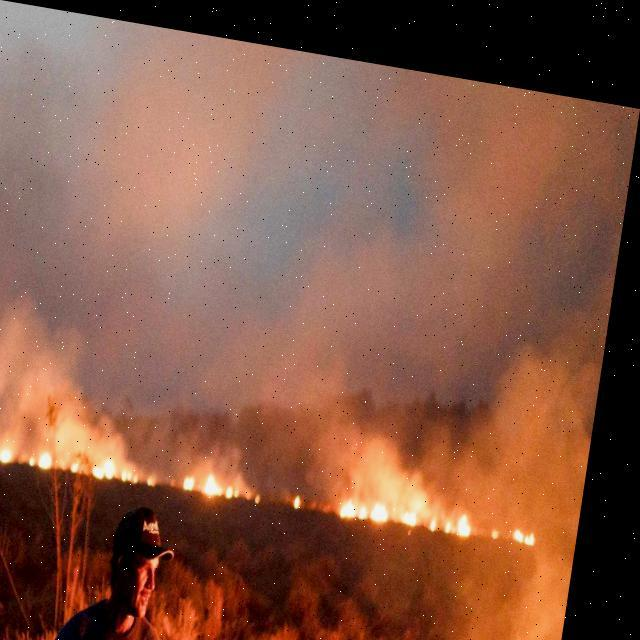Fire: (347, 464, 486, 526), (90, 446, 155, 481), (198, 458, 257, 494), (0, 436, 26, 469), (522, 502, 552, 526), (42, 447, 68, 469), (302, 479, 318, 498)
